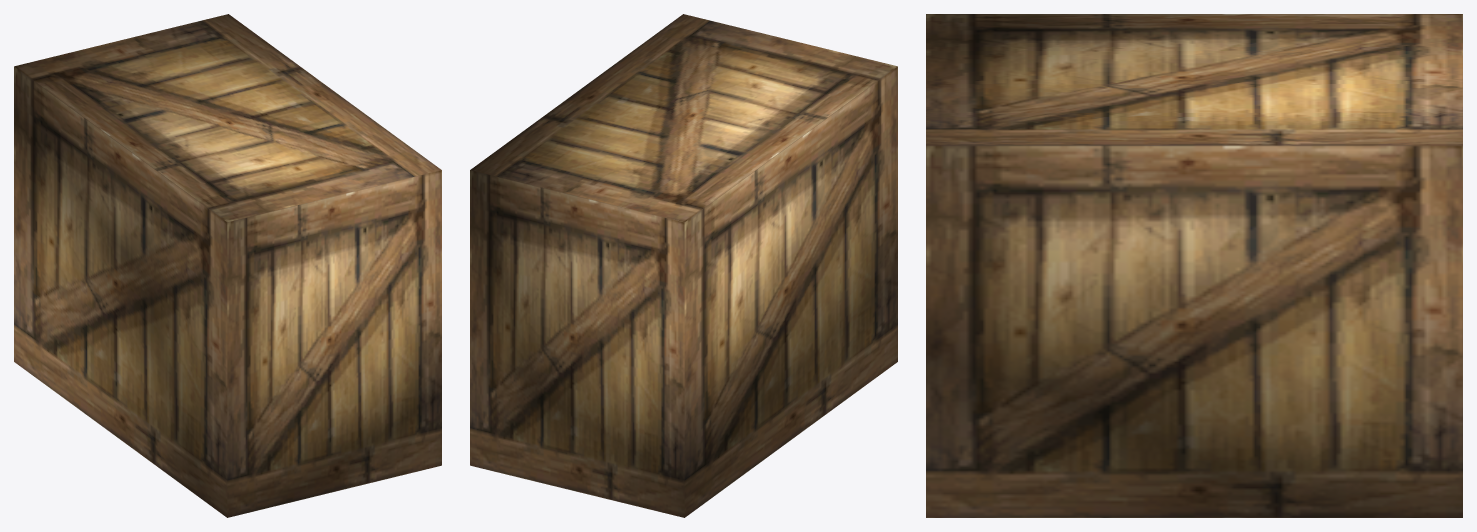
The model's file is replacecrate02.obj.
3 renders of one model, left to right at view 1: azimuth 30°, elevation 25°; view 2: azimuth 150°, elevation 25°; view 3: azimuth 270°, elevation 25°, orthographic. The views are drawn at different scales.
Visible parts, largest first — view 1: replacecrate02; view 2: replacecrate02; view 3: replacecrate02.
Part boxes in pixels (x1=…): replacecrate02: x1=14, y1=14, x2=441, y2=517; replacecrate02: x1=470, y1=14, x2=897, y2=517; replacecrate02: x1=926, y1=14, x2=1462, y2=517.
Bounding box in the file's own units: 0.5225 × 0.6878 × 0.8994.
Materials: 1 (1 with a texture image).
